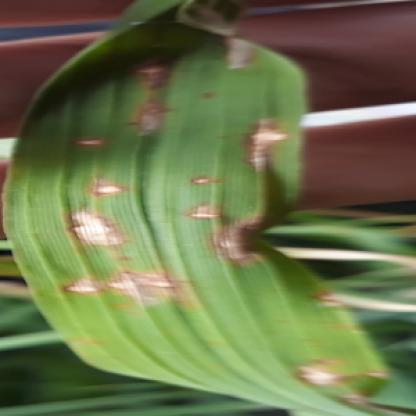Rice blast: (180, 169, 289, 273), (44, 270, 197, 309), (290, 355, 398, 410), (62, 201, 147, 255), (238, 111, 294, 176), (134, 51, 170, 137), (62, 116, 122, 154)
